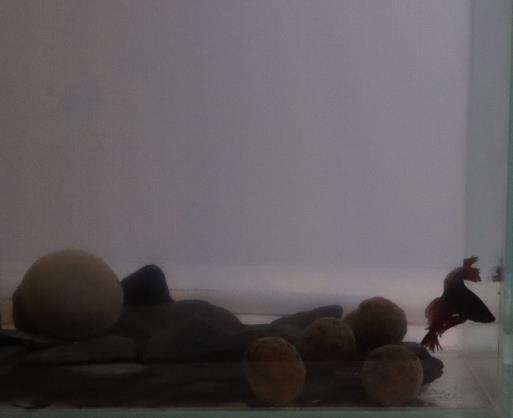fish: (416, 256, 497, 353)
